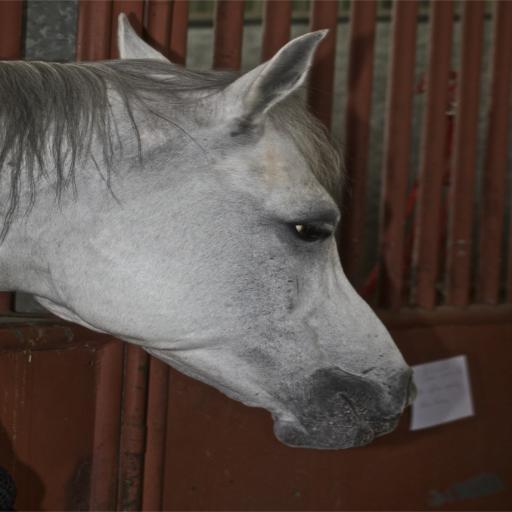horse: (0, 11, 420, 453)
